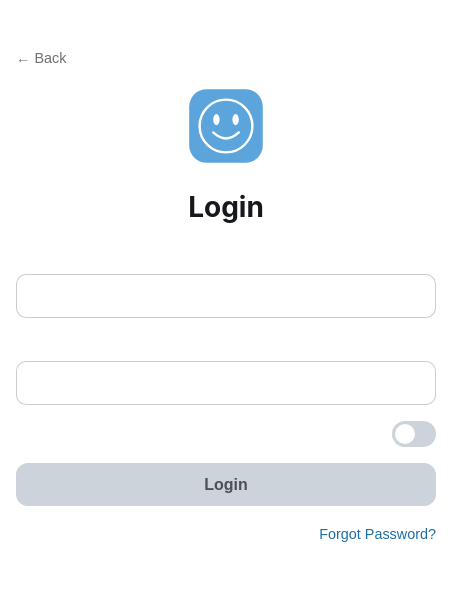
it: error banner can be dismissed
The width and height of the screenshot is (453, 595).
Type "ada" into the field labelled "Username or Email" at (226, 296), box [16,274,436,318]
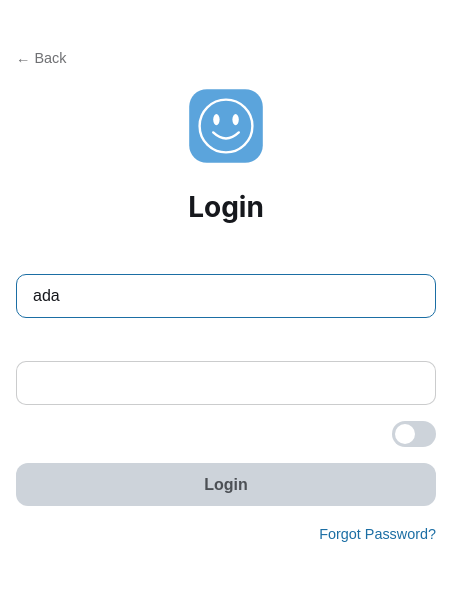
Type "wrong" into the password field labelled "Password" at (226, 383), box [16,361,436,405]
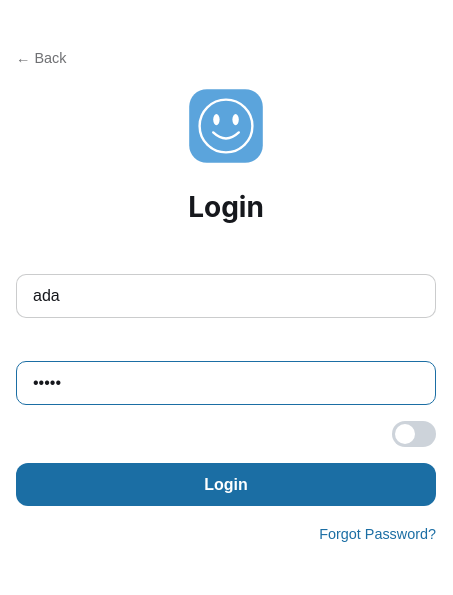
Click the button "Login" at (226, 485), box [16,463,436,506]
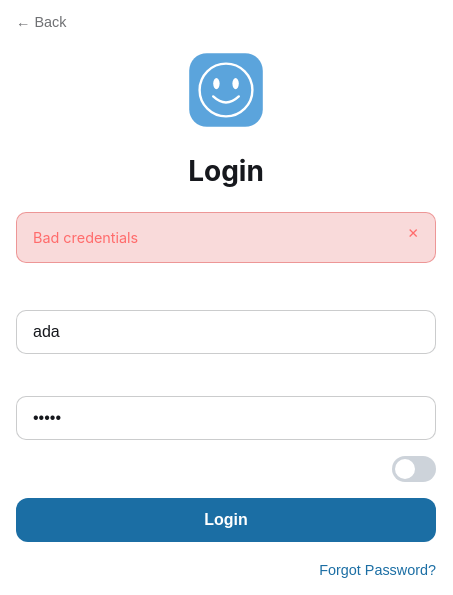
Expected: the message "Bad credentials ✕" is shown, [16,212,436,263]
Click the button named "Dismiss error" at (413, 234), box [408,227,419,240]
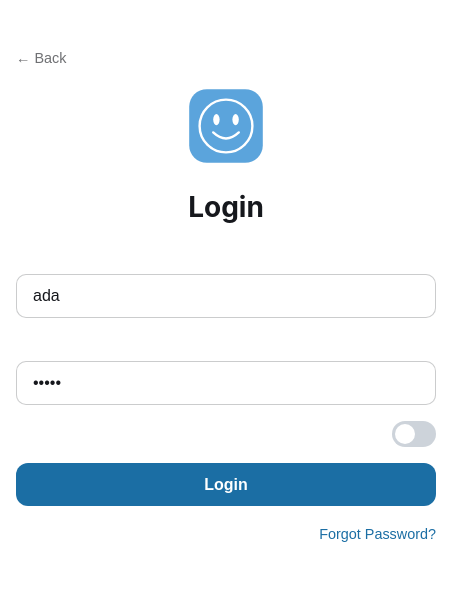
Expected: the message "Bad credentials ✕" is gone
